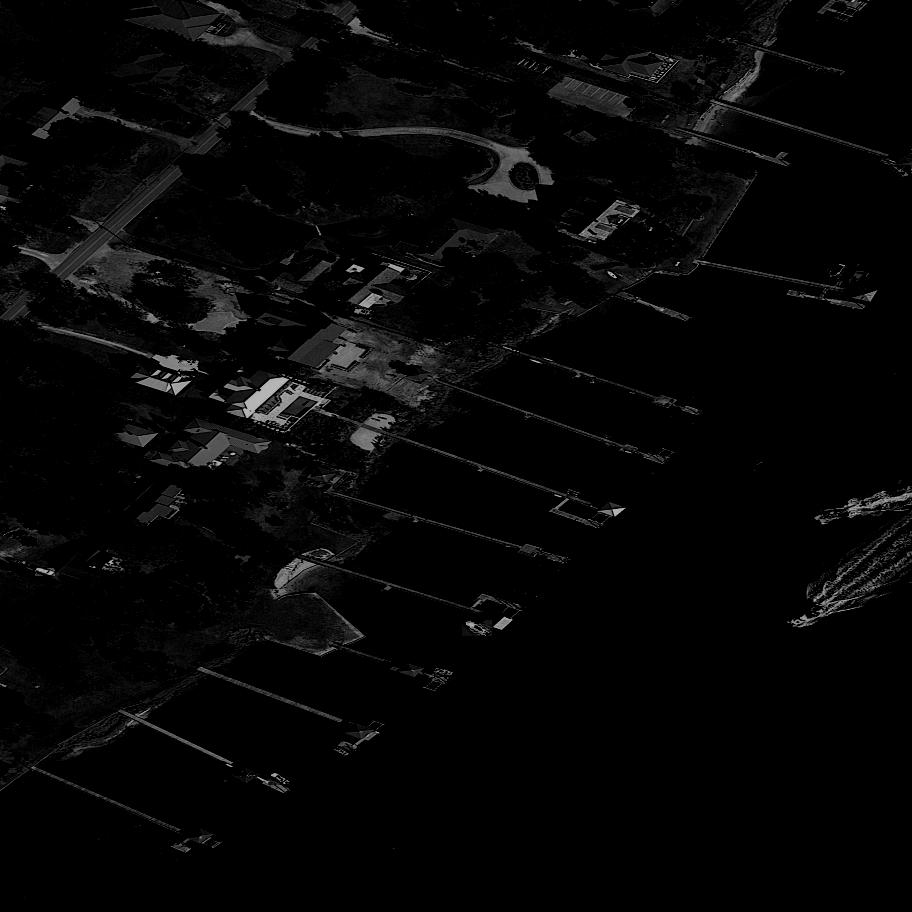ship: (787, 599, 828, 634), (462, 617, 492, 638), (812, 509, 848, 525), (845, 266, 866, 290), (826, 262, 846, 284), (887, 165, 911, 181), (268, 771, 291, 786), (334, 745, 353, 758), (435, 668, 456, 678), (397, 203, 412, 217), (353, 309, 376, 318), (179, 360, 201, 367), (586, 377, 595, 383)
small-vehicle: (71, 69, 91, 84), (626, 96, 643, 111), (35, 567, 55, 577), (233, 334, 251, 345), (22, 536, 37, 549), (14, 530, 27, 542), (9, 560, 28, 567), (181, 371, 195, 377)
